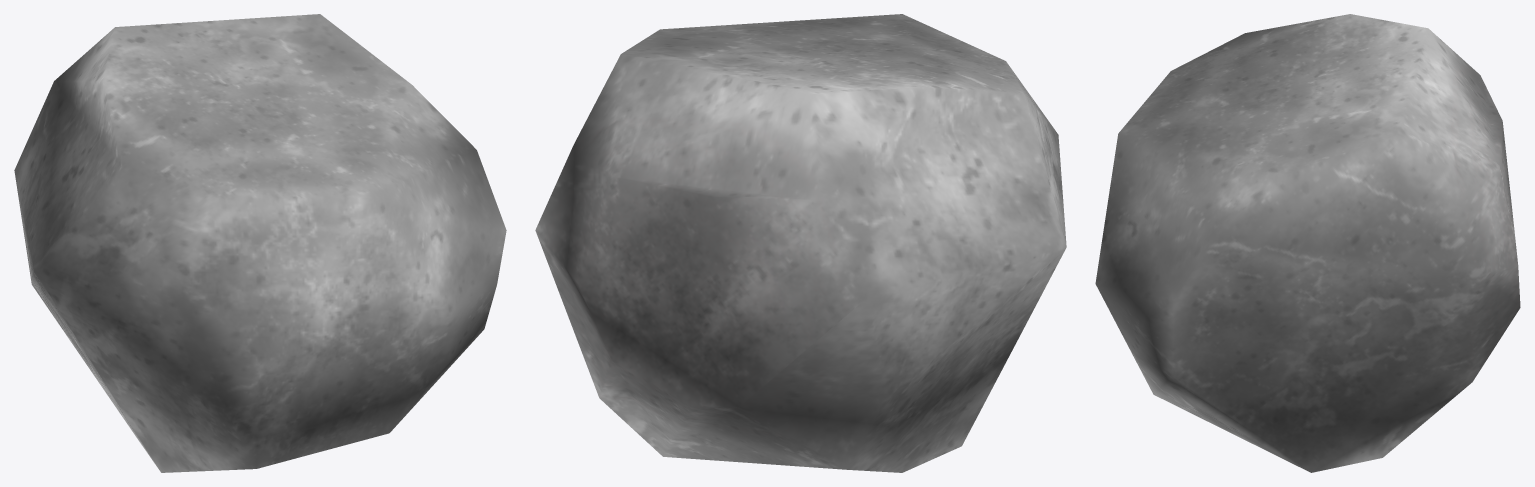
Rendered from Rock1_LOD2.fbx.
3 renders of one model, left to right at view 1: azimuth 30°, elevation 25°; view 2: azimuth 150°, elevation 25°; view 3: azimuth 270°, elevation 25°, orthographic. The views are drawn at different scales.
Visible parts, largest first — view 1: Rock1_2; view 2: Rock1_2; view 3: Rock1_2.
Part boxes in pixels (x1=…): Rock1_2: x1=14, y1=14, x2=506, y2=472; Rock1_2: x1=535, y1=14, x2=1066, y2=472; Rock1_2: x1=1095, y1=14, x2=1520, y2=472.
Size of the model in its own units: 1.55 by 1.39 by 1.5.
